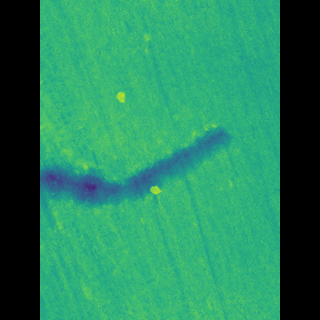Loch: (69, 116, 214, 237)
